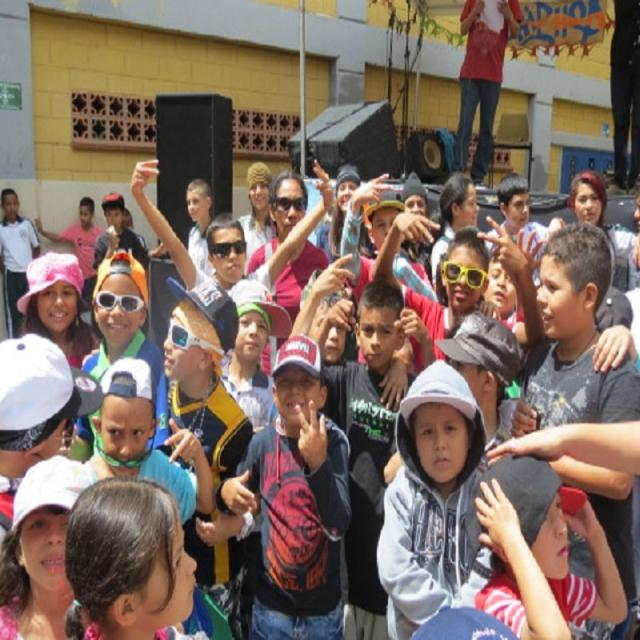body: (508, 220, 638, 631), (296, 275, 438, 640), (212, 328, 358, 639), (375, 358, 495, 640), (152, 274, 256, 593), (370, 206, 551, 381), (469, 452, 631, 640), (130, 156, 336, 298), (381, 306, 530, 483), (0, 330, 106, 570), (64, 250, 172, 466), (84, 356, 218, 528), (62, 472, 198, 640), (0, 452, 102, 640), (340, 173, 439, 364), (242, 164, 332, 326), (452, 0, 526, 190), (216, 275, 292, 435), (547, 166, 640, 294), (14, 249, 100, 370), (287, 250, 359, 364), (33, 193, 106, 300), (483, 172, 550, 287), (427, 168, 481, 298), (0, 186, 44, 340), (315, 163, 378, 266), (608, 0, 640, 192), (584, 283, 639, 384), (481, 253, 537, 348), (92, 191, 152, 278), (234, 160, 277, 278), (184, 176, 218, 279), (397, 167, 432, 223), (330, 170, 360, 212), (122, 203, 140, 228)
